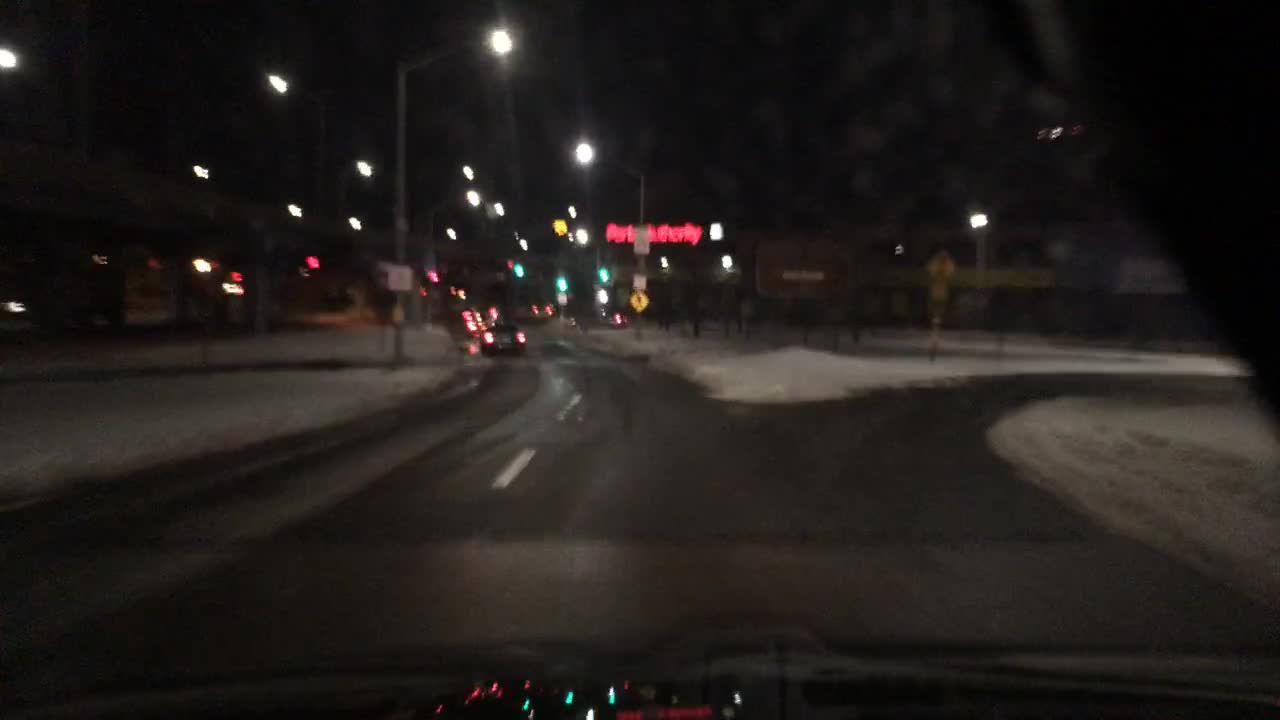car: (481, 319, 523, 353), (533, 303, 553, 318), (602, 310, 625, 323), (486, 305, 503, 318), (459, 309, 483, 318), (468, 318, 486, 327), (633, 418, 641, 422)
traffic light: (597, 264, 608, 285), (513, 258, 522, 278), (554, 273, 564, 291)
traffic sign: (755, 239, 848, 296), (459, 292, 556, 303), (928, 248, 957, 280), (385, 261, 413, 294), (628, 290, 651, 313), (634, 223, 647, 253), (930, 283, 948, 302), (632, 275, 647, 290), (599, 289, 607, 303)
